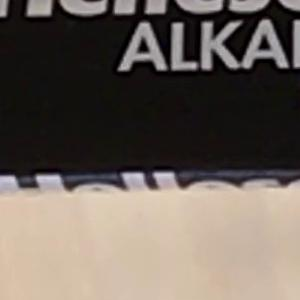ALK: (109, 13, 207, 81)
